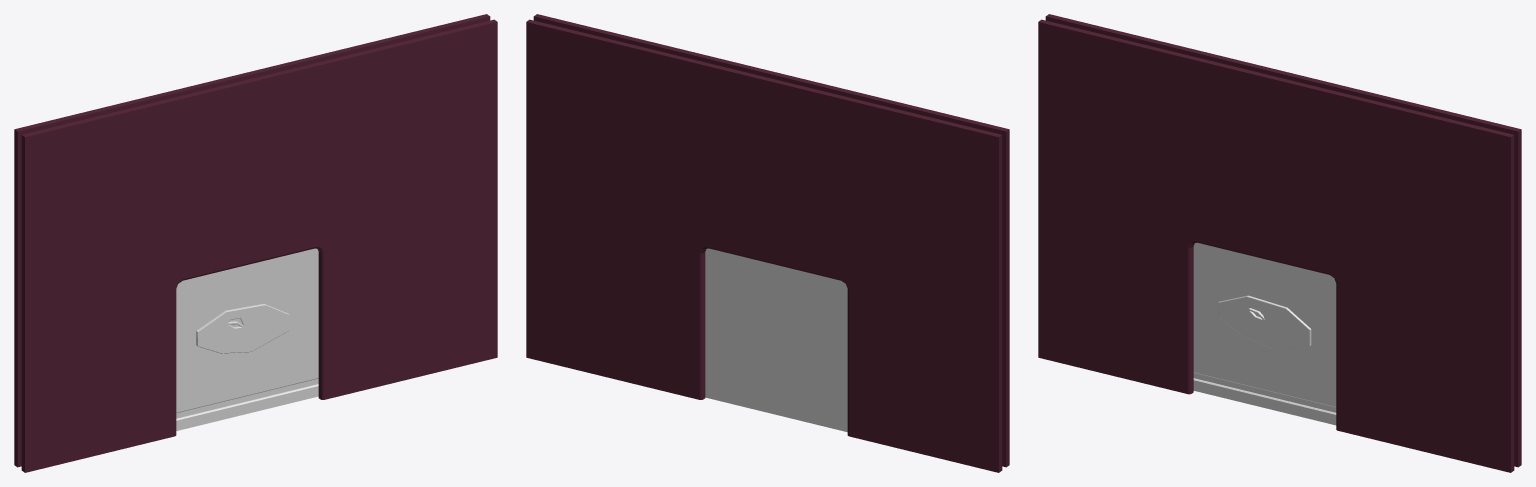
The model's file is steady_irongate.fbx.
3 views of the same model, side by side, from view 1: azimuth 30°, elevation 25°; view 2: azimuth 150°, elevation 25°; view 3: azimuth 330°, elevation 25° (orthographic).
Visible parts, largest first — view 1: door frame, iron door, steady_sign; view 2: door frame, iron door; view 3: door frame, iron door, steady_sign.
Part boxes in pixels (left/top/right/bottom): door frame: left=14, top=14, right=497, bottom=472; iron door: left=176, top=248, right=318, bottom=430; steady_sign: left=196, top=303, right=289, bottom=353; door frame: left=526, top=14, right=1009, bottom=472; iron door: left=705, top=248, right=847, bottom=432; door frame: left=1038, top=14, right=1521, bottom=472; iron door: left=1193, top=242, right=1336, bottom=425; steady_sign: left=1218, top=295, right=1311, bottom=348.
Size of the model in its own units: 36.84 by 25 by 1.46.
